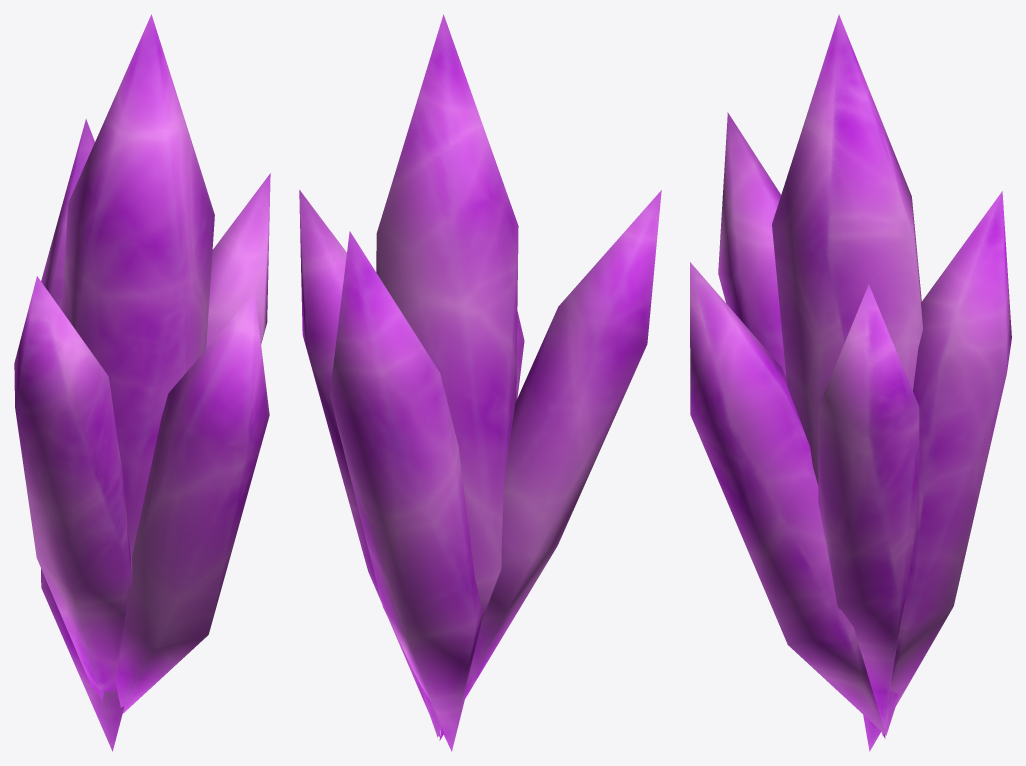
Rendered from MagicstoneParticle.fbx.
3 renders of one model, left to right at view 1: azimuth 30°, elevation 25°; view 2: azimuth 150°, elevation 25°; view 3: azimuth 270°, elevation 25°, orthographic. The views are drawn at different scales.
Visible parts, largest first — view 1: MagicstoneParticle.062; view 2: MagicstoneParticle.062; view 3: MagicstoneParticle.062.
Boxes of the visible parts, bbox=[...] form: MagicstoneParticle.062: bbox=[14, 14, 270, 751]; MagicstoneParticle.062: bbox=[299, 14, 661, 751]; MagicstoneParticle.062: bbox=[690, 14, 1011, 751].
Bounding box in the file's own units: 104 × 240 × 93.32.
